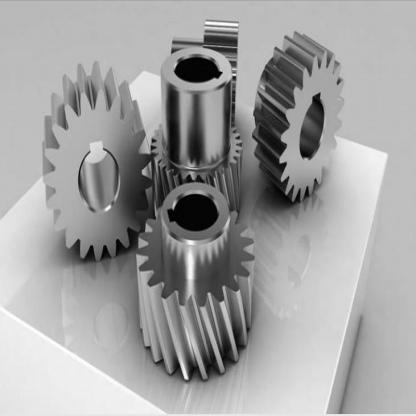FOD: (134, 184, 258, 386), (40, 59, 153, 265), (251, 26, 346, 204), (149, 115, 244, 222)
